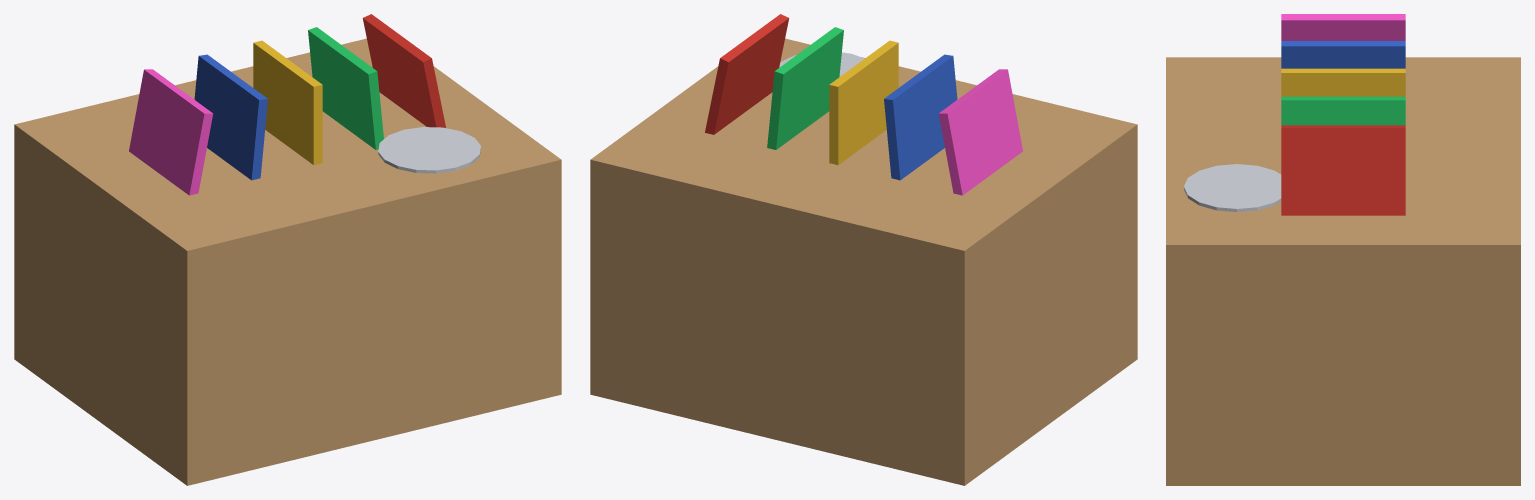
Rendered from karaoke_pirate_discs.glb.
The picture shows the model from 3 angles, left to right: view 1: azimuth 30°, elevation 25°; view 2: azimuth 150°, elevation 25°; view 3: azimuth 270°, elevation 25°; orthographic projection. The views are drawn at different scales.
Parts seen in each view (by area): view 1: box_discs_box, case, disc_disc_silver; view 2: box_discs_box, case; view 3: box_discs_box, case, disc_disc_silver.
Boxes of the visible parts, bbox=[...] form: box_discs_box: bbox=[14, 38, 561, 485]; case: bbox=[129, 14, 445, 195]; disc_disc_silver: bbox=[378, 127, 480, 173]; box_discs_box: bbox=[590, 38, 1137, 485]; case: bbox=[705, 14, 1022, 195]; box_discs_box: bbox=[1166, 57, 1520, 485]; case: bbox=[1281, 14, 1405, 215]; disc_disc_silver: bbox=[1184, 164, 1281, 212].
Bounding box in the file's own units: 0.5 × 0.4002 × 0.4.
